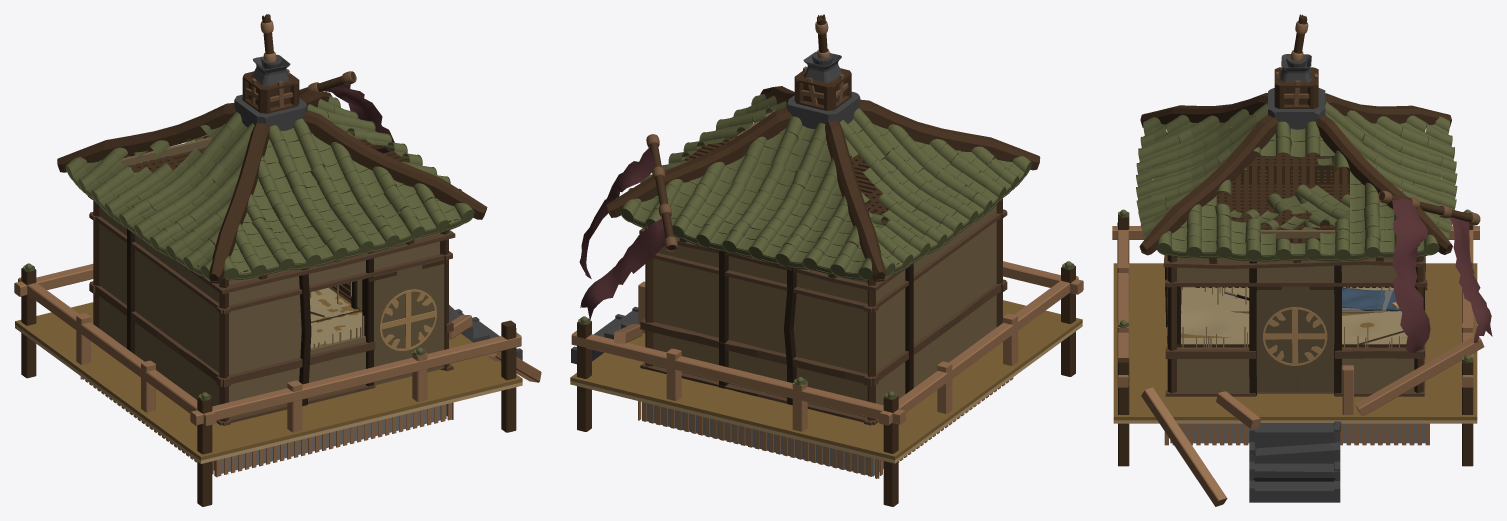
Rendered from NewHut1Broken.fbx.
The picture shows the model from 3 angles, left to right: view 1: azimuth 30°, elevation 25°; view 2: azimuth 150°, elevation 25°; view 3: azimuth 270°, elevation 25°; orthographic projection. The views are drawn at different scales.
Parts seen in each view (by area): view 1: Hut1Broken_LOD0; view 2: Hut1Broken_LOD0; view 3: Hut1Broken_LOD0.
Boxes of the visible parts, x1,y1,x2,y2 form: Hut1Broken_LOD0: (14,14,541,506); Hut1Broken_LOD0: (570,14,1083,506); Hut1Broken_LOD0: (1112,14,1492,506).
Size of what is drawn, in the model's own units: 1389 by 1310 by 1177.
